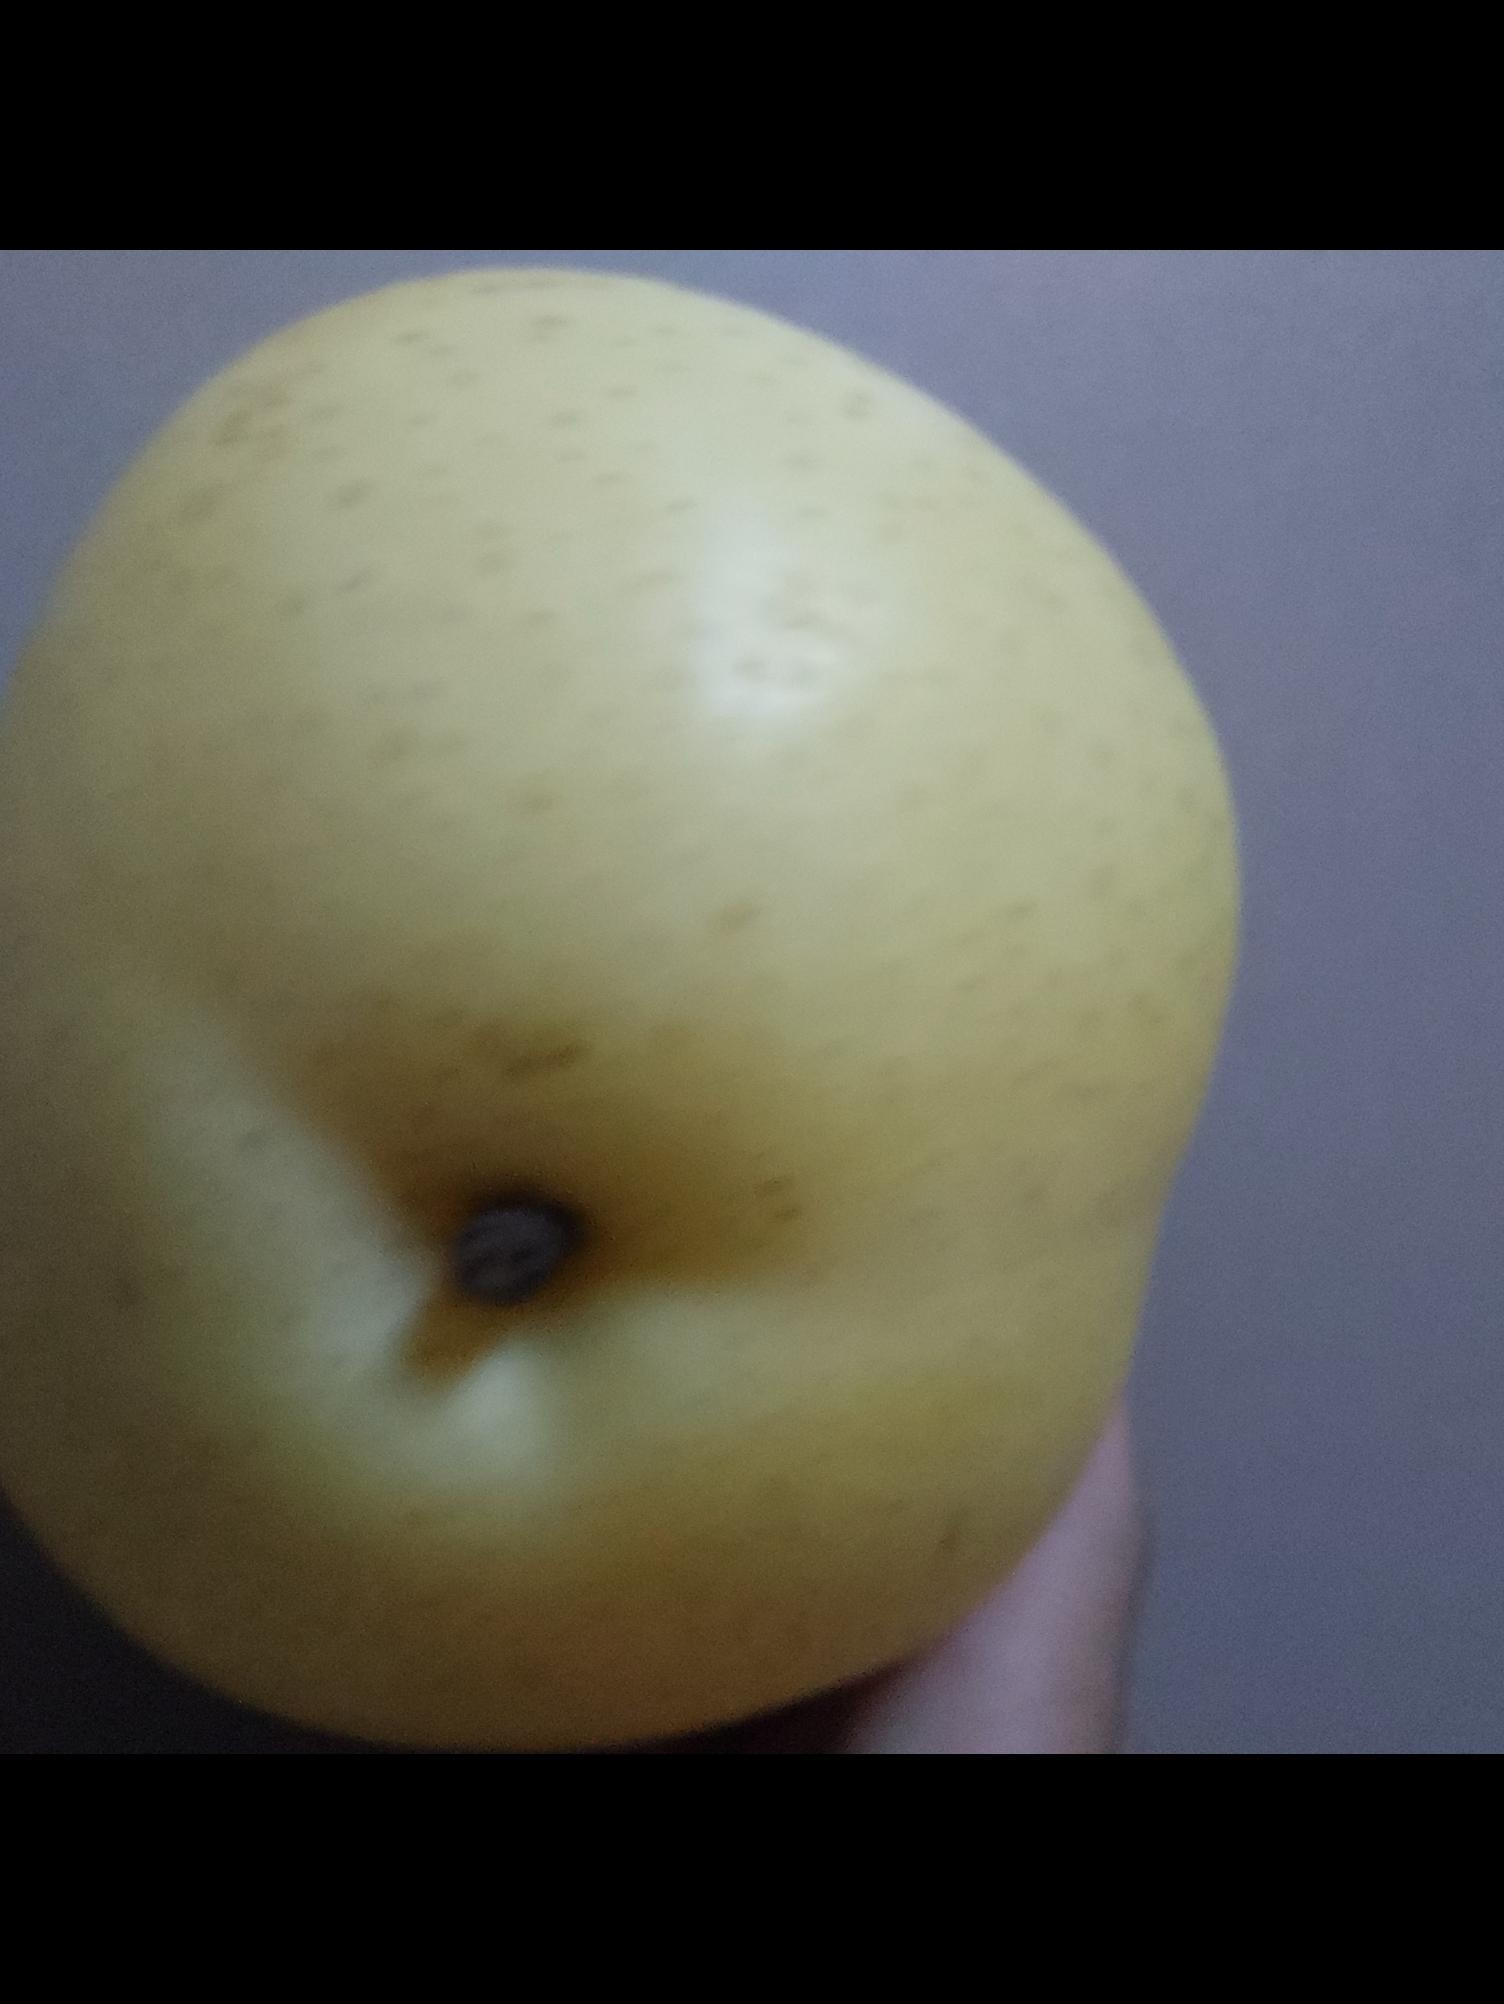Good Pear: (0, 251, 1239, 1754)
